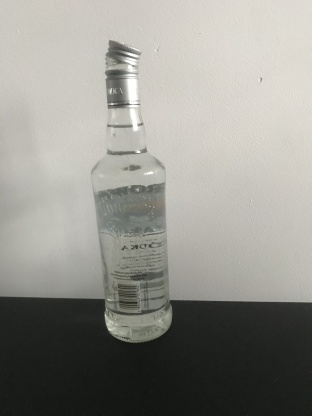nakretka: (103, 37, 143, 107)
